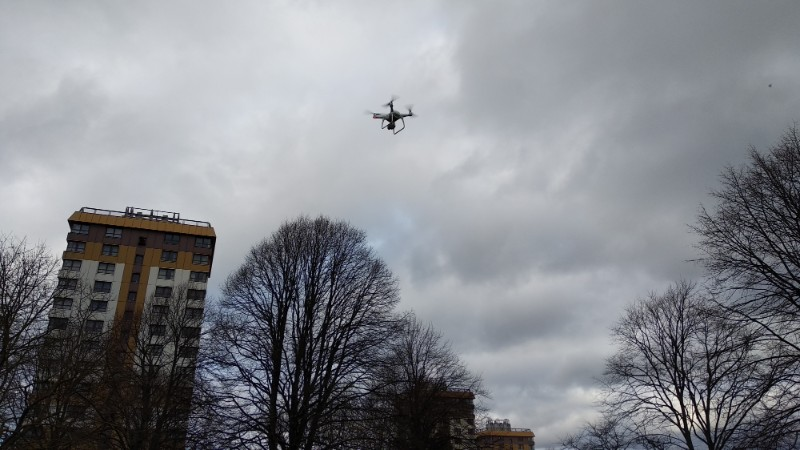drone: (366, 97, 421, 134)
